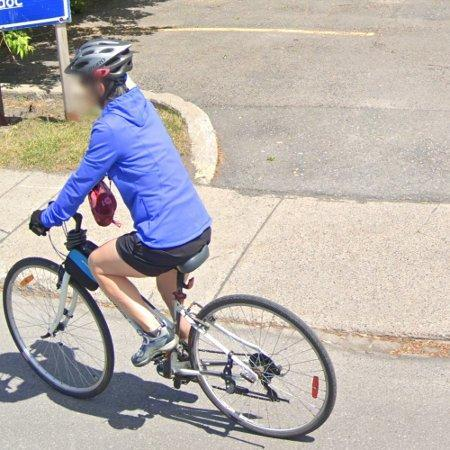bicycles: (180, 318, 191, 341)
